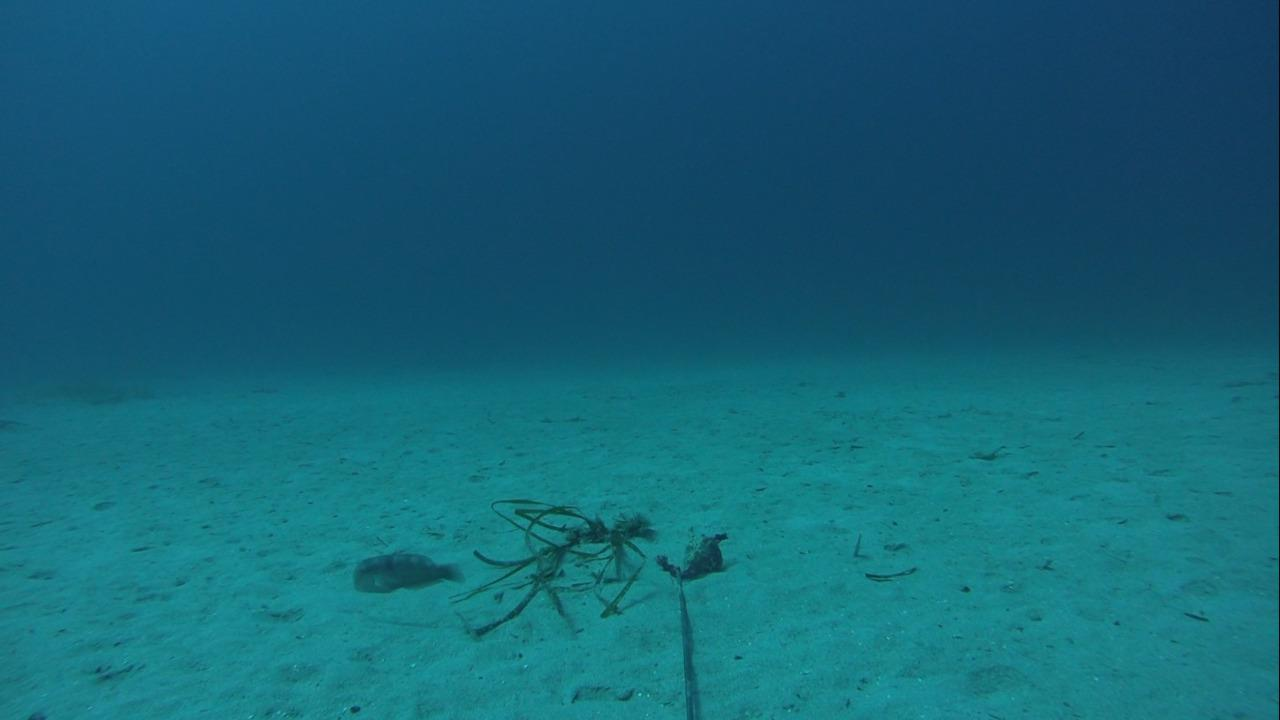raor: (346, 546, 462, 598)
